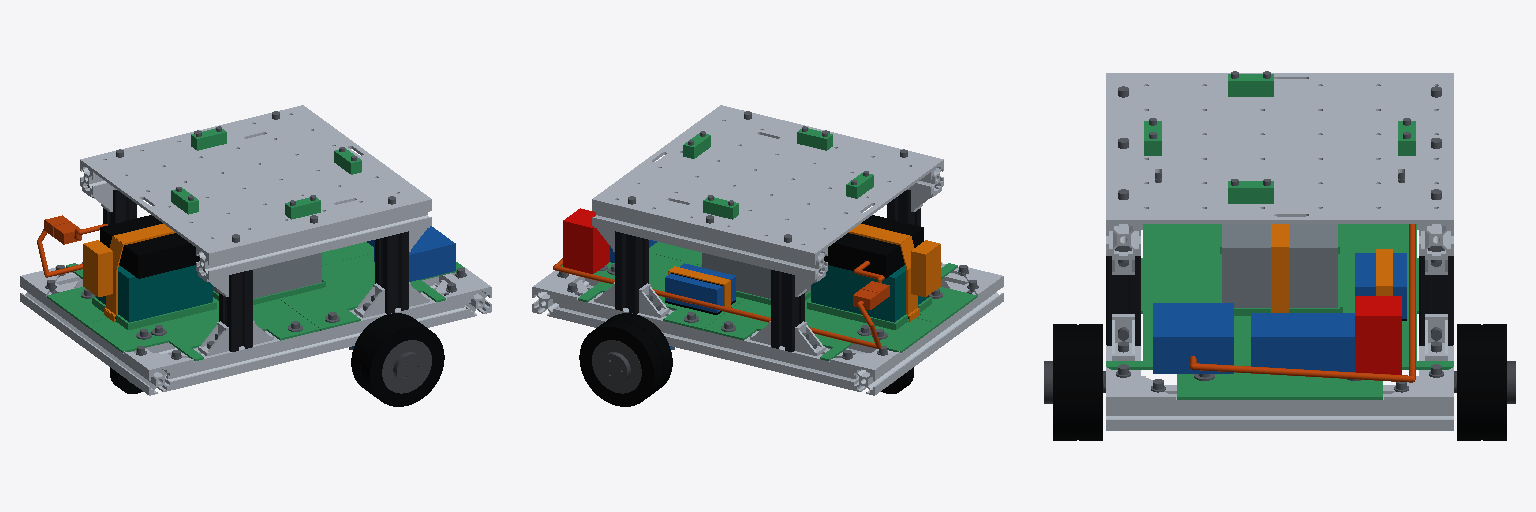
robot.urdf — amr_d61:
<?xml version='1.0' encoding='utf-8'?>
<robot name="amr_d61">
  <!--Generated from D6.1. SI units; +X forward, +Y left, +Z up. Inertias are estimates.-->
  <material name="aluminum">
    <color rgba="0.72 0.75 0.79 1" />
  </material>
  <material name="steel">
    <color rgba="0.38 0.4 0.43 1" />
  </material>
  <material name="pla">
    <color rgba="0.22 0.61 0.38 1" />
  </material>
  <material name="posts">
    <color rgba="0.12 0.13 0.15 1" />
  </material>
  <material name="mounts">
    <color rgba="0.15 0.43 0.69 1" />
  </material>
  <material name="motor">
    <color rgba="0.3 0.31 0.33 1" />
  </material>
  <material name="rubber">
    <color rgba="0.055 0.06 0.065 1" />
  </material>
  <material name="battery">
    <color rgba="0.02 0.4 0.4 1" />
  </material>
  <material name="computer">
    <color rgba="0.5 0.54 0.57 1" />
  </material>
  <material name="electronics">
    <color rgba="0.12 0.37 0.67 1" />
  </material>
  <material name="estop">
    <color rgba="0.85 0.08 0.06 1" />
  </material>
  <material name="belts">
    <color rgba="0.88 0.47 0.07 1" />
  </material>
  <material name="wires">
    <color rgba="0.76 0.3 0.08 1" />
  </material>
  <material name="payload">
    <color rgba="0.66 0.44 0.23 1" />
  </material>
  <link name="left_wheel_link">
    <inertial>
      <origin xyz="2.68715937167e-07 0.000842844210193 -1.43130870062e-06" rpy="0 0 0" />
      <mass value="0.45" />
      <inertia ixx="0.000337824360516" ixy="2.57511255333e-09" ixz="-2.83491628371e-11" iyy="0.000517319399072" iyz="-1.83797301139e-08" izz="0.000337817873043" />
    </inertial>
    <visual name="left_wheel_link_motor">
      <geometry>
        <mesh filename="meshes/left_wheel_link_motor.stl" scale="1 1 1" />
      </geometry>
      <material name="motor" />
    </visual>
    <visual name="left_wheel_link_rubber">
      <geometry>
        <mesh filename="meshes/left_wheel_link_rubber.stl" scale="1 1 1" />
      </geometry>
      <material name="rubber" />
    </visual>
    <collision name="left_wheel_link_rolling_contact">
      <origin xyz="0 0 0" rpy="1.57079632679 0 0" />
      <geometry>
        <cylinder radius="0.05035" length="0.043" />
      </geometry>
    </collision>
  </link>
  <link name="base_link">
    <inertial>
      <origin xyz="-0.0934123624767 -0.000838661994572 0.0806849806437" rpy="0 0 0" />
      <mass value="8.87086255317" />
      <inertia ixx="0.117847647681" ixy="0.00168170505231" ixz="0.00522242960998" iyy="0.171327454633" iyz="0.000151056829714" izz="0.225382851105" />
    </inertial>
    <visual name="base_link_motor">
      <geometry>
        <mesh filename="meshes/base_link_motor.stl" scale="1 1 1" />
      </geometry>
      <material name="motor" />
    </visual>
    <visual name="base_link_steel">
      <geometry>
        <mesh filename="meshes/base_link_steel.stl" scale="1 1 1" />
      </geometry>
      <material name="steel" />
    </visual>
    <visual name="base_link_aluminum">
      <geometry>
        <mesh filename="meshes/base_link_aluminum.stl" scale="1 1 1" />
      </geometry>
      <material name="aluminum" />
    </visual>
    <visual name="base_link_mounts">
      <geometry>
        <mesh filename="meshes/base_link_mounts.stl" scale="1 1 1" />
      </geometry>
      <material name="mounts" />
    </visual>
    <visual name="base_link_pla">
      <geometry>
        <mesh filename="meshes/base_link_pla.stl" scale="1 1 1" />
      </geometry>
      <material name="pla" />
    </visual>
    <visual name="base_link_posts">
      <geometry>
        <mesh filename="meshes/base_link_posts.stl" scale="1 1 1" />
      </geometry>
      <material name="posts" />
    </visual>
    <visual name="base_link_electronics">
      <geometry>
        <mesh filename="meshes/base_link_electronics.stl" scale="1 1 1" />
      </geometry>
      <material name="electronics" />
    </visual>
    <visual name="base_link_estop">
      <geometry>
        <mesh filename="meshes/base_link_estop.stl" scale="1 1 1" />
      </geometry>
      <material name="estop" />
    </visual>
    <visual name="base_link_computer">
      <geometry>
        <mesh filename="meshes/base_link_computer.stl" scale="1 1 1" />
      </geometry>
      <material name="computer" />
    </visual>
    <visual name="base_link_battery">
      <geometry>
        <mesh filename="meshes/base_link_battery.stl" scale="1 1 1" />
      </geometry>
      <material name="battery" />
    </visual>
    <visual name="base_link_rubber">
      <geometry>
        <mesh filename="meshes/base_link_rubber.stl" scale="1 1 1" />
      </geometry>
      <material name="rubber" />
    </visual>
    <visual name="base_link_belts">
      <geometry>
        <mesh filename="meshes/base_link_belts.stl" scale="1 1 1" />
      </geometry>
      <material name="belts" />
    </visual>
    <visual name="base_link_wires">
      <geometry>
        <mesh filename="meshes/base_link_wires.stl" scale="1 1 1" />
      </geometry>
      <material name="wires" />
    </visual>
    <collision name="base_link_Rail400_1">
      <origin xyz="-0.09 -0.135 0.03365" rpy="0 0 0" />
      <geometry>
        <box size="0.4 0.03 0.03" />
      </geometry>
    </collision>
    <collision name="base_link_Rail400_2">
      <origin xyz="-0.09 -0.065 0.03365" rpy="0 0 0" />
      <geometry>
        <box size="0.4 0.03 0.03" />
      </geometry>
    </collision>
    <collision name="base_link_Rail400_3">
      <origin xyz="-0.09 0.065 0.03365" rpy="0 0 0" />
      <geometry>
        <box size="0.4 0.03 0.03" />
      </geometry>
    </collision>
    <collision name="base_link_Rail400_4">
      <origin xyz="-0.09 0.135 0.03365" rpy="0 0 0" />
      <geometry>
        <box size="0.4 0.03 0.03" />
      </geometry>
    </collision>
    <collision name="base_link_Cross300_1">
      <origin xyz="-0.305 0 0.03365" rpy="0 0 0" />
      <geometry>
        <box size="0.03 0.3 0.03" />
      </geometry>
    </collision>
    <collision name="base_link_Cross300_2">
      <origin xyz="0.125 0 0.03365" rpy="0 0 0" />
      <geometry>
        <box size="0.03 0.3 0.03" />
      </geometry>
    </collision>
    <collision name="base_link_CustomMotorMountL">
      <origin xyz="0 0.135 0.00165" rpy="0 0 0" />
      <geometry>
        <box size="0.09 0.03 0.034" />
      </geometry>
    </collision>
    <collision name="base_link_CustomMotorMountR">
      <origin xyz="0 -0.135 0.00165" rpy="0 0 0" />
      <geometry>
        <box size="0.09 0.03 0.034" />
      </geometry>
    </collision>
    <collision name="base_link_CasterAdapter">
      <origin xyz="-0.24 0 0.01665" rpy="0 0 0" />
      <geometry>
        <box size="0.08 0.17 0.004" />
      </geometry>
    </collision>
    <collision name="base_link_CasterTop">
      <origin xyz="-0.24 0 0.0134" rpy="0 0 0" />
      <geometry>
        <box size="0.059 0.047 0.0025" />
      </geometry>
    </collision>
    <collision name="base_link_Reserved_Protection">
      <origin xyz="0.08 -0.075 0.07915" rpy="0 0 0" />
      <geometry>
        <box size="0.07 0.07 0.035" />
      </geometry>
    </collision>
    <collision name="base_link_Reserved_ClampAndPower">
      <origin xyz="0.09 0.02 0.07915" rpy="0 0 0" />
      <geometry>
        <box size="0.05 0.09 0.035" />
      </geometry>
    </collision>
    <collision name="base_link_Reserved_EmergencyStop">
      <origin xyz="0.105 0.085 0.09165" rpy="0 0 0" />
      <geometry>
        <box size="0.04 0.04 0.06" />
      </geometry>
    </collision>
    <collision name="base_link_Reserved_SupervisorRS485">
      <origin xyz="-0.05 0.0875 0.06865" rpy="0 0 0" />
      <geometry>
        <box size="0.07 0.045 0.03" />
      </geometry>
    </collision>
    <collision name="base_link_Reserved_Computer">
      <origin xyz="-0.09 0 0.08365" rpy="0 0 0" />
      <geometry>
        <box size="0.12 0.1 0.06" />
      </geometry>
    </collision>
    <collision name="base_link_AluminumDeckD3">
      <origin xyz="-0.09 0 0.18065" rpy="0 0 0" />
      <geometry>
        <box size="0.3 0.3 0.004" />
      </geometry>
    </collision>
    <collision name="base_link_PrintedStopXN">
      <origin xyz="-0.1995 -0.025 0.19015" rpy="0 0 0" />
      <geometry>
        <box size="0.015 0.04 0.015" />
      </geometry>
    </collision>
    <collision name="base_link_PrintedStopXP">
      <origin xyz="0.0195 -0.025 0.19015" rpy="0 0 0" />
      <geometry>
        <box size="0.015 0.04 0.015" />
      </geometry>
    </collision>
    <collision name="base_link_PrintedStopYN">
      <origin xyz="-0.09 -0.1095 0.19015" rpy="0 0 0" />
      <geometry>
        <box size="0.04 0.015 0.015" />
      </geometry>
    </collision>
    <collision name="base_link_PrintedStopYP">
      <origin xyz="-0.09 0.1095 0.19015" rpy="0 0 0" />
      <geometry>
        <box size="0.04 0.015 0.015" />
      </geometry>
    </collision>
    <collision name="base_link_Upright3030_0">
      <origin xyz="-0.195 -0.135 0.09865" rpy="0 0 0" />
      <geometry>
        <box size="0.03 0.03 0.1" />
      </geometry>
    </collision>
    <collision name="base_link_Upright3030_1">
      <origin xyz="-0.195 0.135 0.09865" rpy="0 0 0" />
      <geometry>
        <box size="0.03 0.03 0.1" />
      </geometry>
    </collision>
    <collision name="base_link_Upright3030_2">
      <origin xyz="0.015 -0.135 0.09865" rpy="0 0 0" />
      <geometry>
        <box size="0.03 0.03 0.1" />
      </geometry>
    </collision>
    <collision name="base_link_Upright3030_3">
      <origin xyz="0.015 0.135 0.09865" rpy="0 0 0" />
      <geometry>
        <box size="0.03 0.03 0.1" />
      </geometry>
    </collision>
    <collision name="base_link_UpperRail3030_0">
      <origin xyz="-0.09 -0.135 0.16365" rpy="0 0 0" />
      <geometry>
        <box size="0.3 0.03 0.03" />
      </geometry>
    </collision>
    <collision name="base_link_UpperRail3030_1">
      <origin xyz="-0.09 0.135 0.16365" rpy="0 0 0" />
      <geometry>
        <box size="0.3 0.03 0.03" />
      </geometry>
    </collision>
    <collision name="base_link_FloorPLA_0_0">
      <origin xyz="-0.2051 -0.0751 0.04985" rpy="0 0 0" />
      <geometry>
        <box size="0.2298 0.1498 0.0024" />
      </geometry>
    </collision>
    <collision name="base_link_FloorPLA_0_1">
      <origin xyz="-0.2051 0.0751 0.04985" rpy="0 0 0" />
      <geometry>
        <box size="0.2298 0.1498 0.0024" />
      </geometry>
    </collision>
    <collision name="base_link_FloorPLA_1_0">
      <origin xyz="0.0251 -0.0751 0.04985" rpy="0 0 0" />
      <geometry>
        <box size="0.2298 0.1498 0.0024" />
      </geometry>
    </collision>
    <collision name="base_link_FloorPLA_1_1">
      <origin xyz="0.0251 0.0751 0.04985" rpy="0 0 0" />
      <geometry>
        <box size="0.2298 0.1498 0.0024" />
      </geometry>
    </collision>
    <collision name="base_link_BatteryBL1860B">
      <origin xyz="-0.2265 0 0.08465" rpy="0 0 0" />
      <geometry>
        <box size="0.113 0.075 0.062" />
      </geometry>
    </collision>
    <collision name="base_link_BatteryAdapter03">
      <origin xyz="-0.2265 0 0.13065" rpy="0 0 0" />
      <geometry>
        <box size="0.095 0.09 0.03" />
      </geometry>
    </collision>
    <collision name="base_link_BatteryBuckleEnvelope">
      <origin xyz="-0.302 0 0.11715" rpy="0 0 0" />
      <geometry>
        <box size="0.02 0.035 0.055" />
      </geometry>
    </collision>
  </link>
  <link name="right_wheel_link">
    <inertial>
      <origin xyz="-2.68715937167e-07 -0.000842844210193 -1.43130870061e-06" rpy="0 0 0" />
      <mass value="0.45" />
      <inertia ixx="0.000337824360516" ixy="2.57511255324e-09" ixz="2.83491629754e-11" iyy="0.000517319399072" iyz="1.83797301136e-08" izz="0.000337817873043" />
    </inertial>
    <visual name="right_wheel_link_motor">
      <geometry>
        <mesh filename="meshes/right_wheel_link_motor.stl" scale="1 1 1" />
      </geometry>
      <material name="motor" />
    </visual>
    <visual name="right_wheel_link_rubber">
      <geometry>
        <mesh filename="meshes/right_wheel_link_rubber.stl" scale="1 1 1" />
      </geometry>
      <material name="rubber" />
    </visual>
    <collision name="right_wheel_link_rolling_contact">
      <origin xyz="0 0 0" rpy="1.57079632679 0 0" />
      <geometry>
        <cylinder radius="0.05035" length="0.043" />
      </geometry>
    </collision>
  </link>
  <link name="caster_swivel_link">
    <inertial>
      <origin xyz="-0.00208368833284 3.45547710101e-19 -0.0060383207606" rpy="0 0 0" />
      <mass value="0.0887160418696" />
      <inertia ixx="2.00832544816e-05" ixy="4.85850705141e-22" ixz="-4.29660604946e-06" iyy="1.90849352283e-05" iyz="-2.53397249247e-22" izz="1.76394659271e-05" />
    </inertial>
    <visual name="caster_swivel_link_steel">
      <geometry>
        <mesh filename="meshes/caster_swivel_link_steel.stl" scale="1 1 1" />
      </geometry>
      <material name="steel" />
    </visual>
    <collision name="caster_swivel_link_swivel_race">
      <origin xyz="0 0 0" rpy="0 0 0" />
      <geometry>
        <cylinder radius="0.019" length="0.009" />
      </geometry>
    </collision>
    <collision name="caster_swivel_link_fork_0">
      <origin xyz="-0.003 -0.0125 -0.01875" rpy="0 0 0" />
      <geometry>
        <box size="0.036 0.003 0.0285" />
      </geometry>
    </collision>
    <collision name="caster_swivel_link_fork_1">
      <origin xyz="-0.003 0.0125 -0.01875" rpy="0 0 0" />
      <geometry>
        <box size="0.036 0.003 0.0285" />
      </geometry>
    </collision>
    <collision name="caster_swivel_link_fork_2">
      <origin xyz="-0.016 0 -0.033" rpy="0 0 0" />
      <geometry>
        <box size="0.006 0.032 0.006" />
      </geometry>
    </collision>
  </link>
  <link name="caster_wheel_link">
    <inertial>
      <origin xyz="2.84217094304e-17 2.29472925463e-19 0" rpy="0 0 0" />
      <mass value="0.035507350075" />
      <inertia ixx="6.57068391835e-06" ixy="2.3584551378e-23" ixz="-1.75899594661e-20" iyy="1.0774211165e-05" iyz="-2.27653595497e-22" izz="6.57068391835e-06" />
    </inertial>
    <visual name="caster_wheel_link_rubber">
      <geometry>
        <mesh filename="meshes/caster_wheel_link_rubber.stl" scale="1 1 1" />
      </geometry>
      <material name="rubber" />
    </visual>
    <visual name="caster_wheel_link_steel">
      <geometry>
        <mesh filename="meshes/caster_wheel_link_steel.stl" scale="1 1 1" />
      </geometry>
      <material name="steel" />
    </visual>
    <collision name="caster_wheel_link_rolling_contact">
      <origin xyz="0 0 0" rpy="1.57079632679 0 0" />
      <geometry>
        <cylinder radius="0.025" length="0.02" />
      </geometry>
    </collision>
  </link>
  <joint name="left_wheel_joint" type="continuous">
    <parent link="base_link" />
    <child link="left_wheel_link" />
    <origin xyz="0 0.1745 0" rpy="0 0 0" />
    <axis xyz="0 1 0" />
    <limit effort="0.96" velocity="12.0427718388" />
    <dynamics damping="0" friction="0" />
  </joint>
  <joint name="right_wheel_joint" type="continuous">
    <parent link="base_link" />
    <child link="right_wheel_link" />
    <origin xyz="0 -0.1745 0" rpy="0 0 0" />
    <axis xyz="0 1 0" />
    <limit effort="0.96" velocity="12.0427718388" />
    <dynamics damping="0" friction="0" />
  </joint>
  <joint name="caster_swivel_joint" type="continuous">
    <parent link="base_link" />
    <child link="caster_swivel_link" />
    <origin xyz="-0.24 0 0.00765" rpy="0 0 0" />
    <axis xyz="0 0 1" />
    <limit effort="0" velocity="30" />
    <dynamics damping="0" friction="0" />
  </joint>
  <joint name="caster_wheel_joint" type="continuous">
    <parent link="caster_swivel_link" />
    <child link="caster_wheel_link" />
    <origin xyz="-0.016 0 -0.033" rpy="0 0 0" />
    <axis xyz="0 1 0" />
    <limit effort="0" velocity="30" />
    <dynamics damping="0" friction="0" />
  </joint>
</robot>

--- What the picture shows (computed from the rendered views, not written in the file) ---
The picture shows the robot from 3 angles, left to right: view 1: azimuth 30°, elevation 25°; view 2: azimuth 150°, elevation 25°; view 3: azimuth 270°, elevation 25°; orthographic projection.
Robot: amr_d61 — 5 links, 4 joints (4 continuous); root link base_link; default pose: every joint at zero.
Visible links, largest first — view 1: base_link, right_wheel_link; view 2: base_link, left_wheel_link; view 3: base_link, left_wheel_link, right_wheel_link.
Boxes of the visible links, x1,y1,x2,y2 form: base_link: (20,105,491,395); right_wheel_link: (351,313,444,406); base_link: (532,105,1003,395); left_wheel_link: (579,313,672,406); base_link: (1103,71,1456,430); left_wheel_link: (1457,324,1515,440); right_wheel_link: (1044,324,1102,440).
Bounding box of the posed robot: 0.46 × 0.4066 × 0.252 m (x, y, z).
20 mesh visuals loaded from 20 distinct referenced files (20 binary STL).
